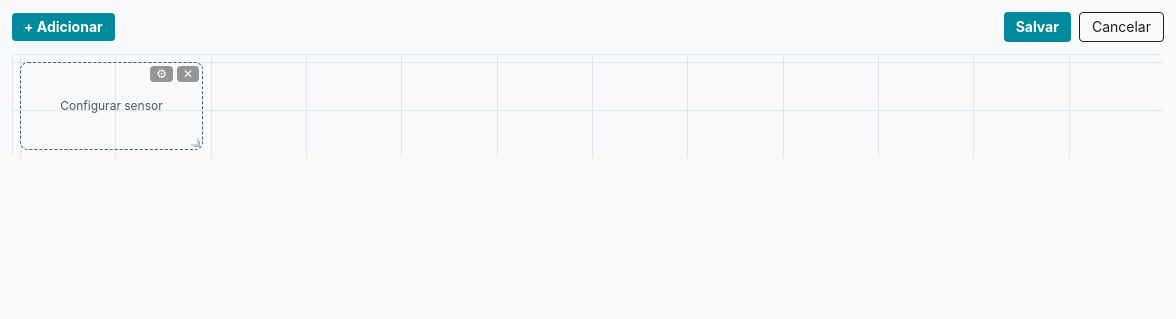
DashboardEditor › adiciona um widget pela palette
Click the button "+ Adicionar".
click(63, 27)  # box [12,13,115,41]
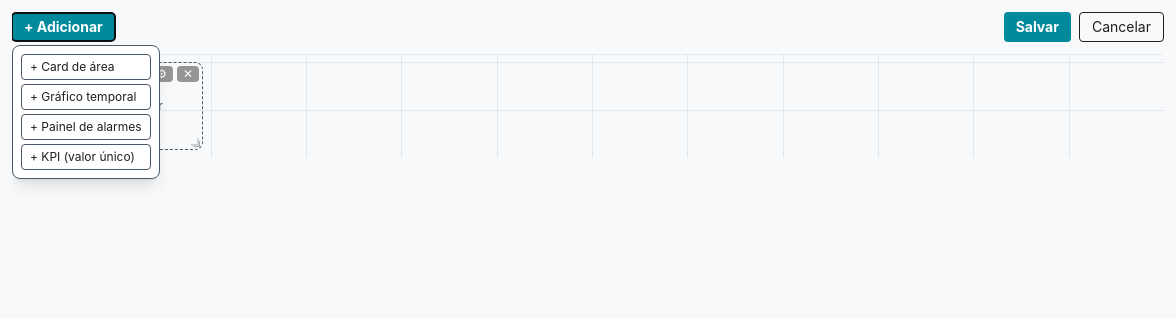
Click the button "+ Card de área".
click(86, 67)  # box [21,54,151,80]
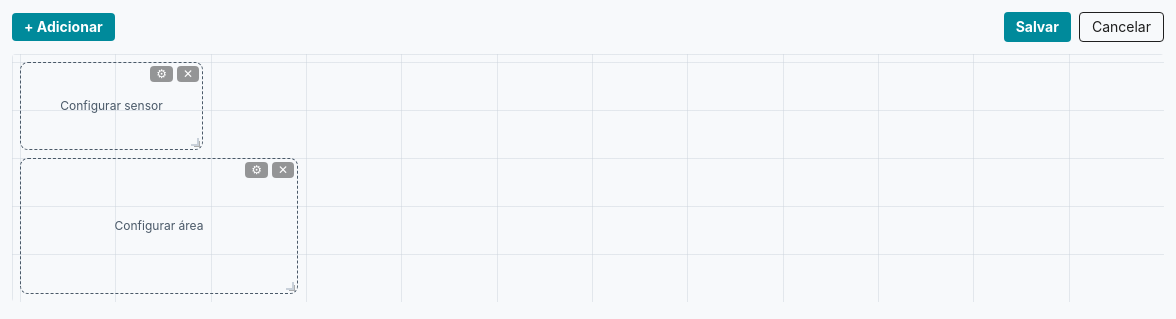
Expected: the number of buttons named "Remover widget" is 2, [177,66,199,82]; [272,162,294,178]
